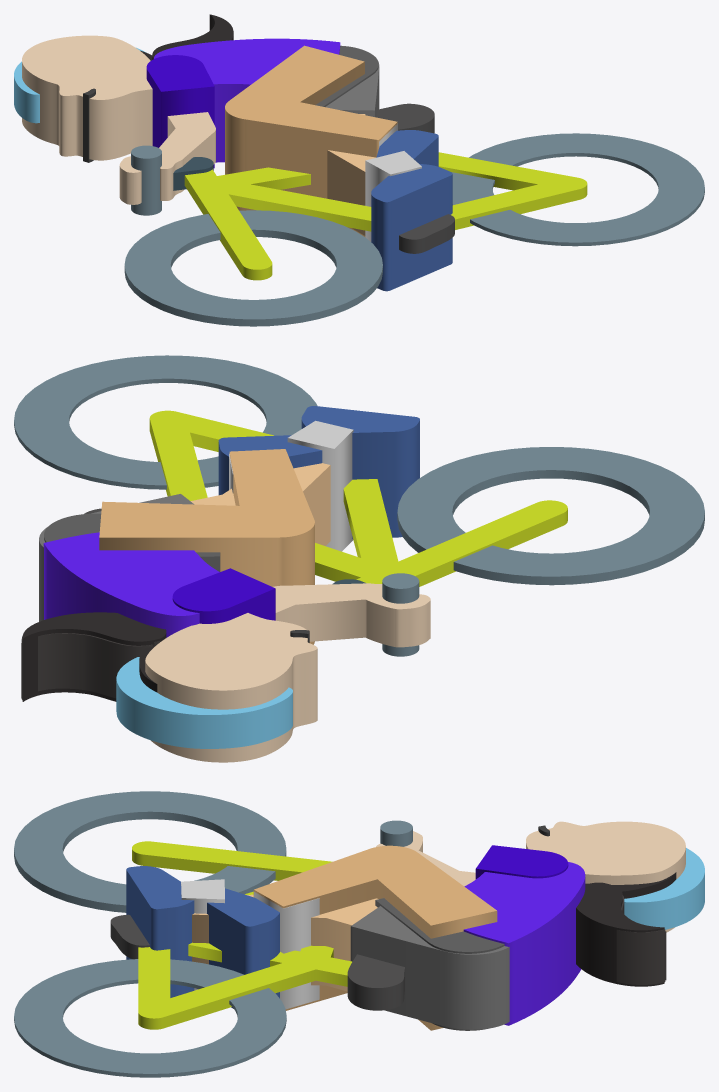
File: emoji_u1f6b4_1f3fb_200d_2640.glb
3 renders of one model, top to bottom at view 1: azimuth 30°, elevation 25°; view 2: azimuth 150°, elevation 25°; view 3: azimuth 270°, elevation 25°, orthographic. The views are drawn at different scales.
Visible parts, largest first — view 1: emoji_u1f6b4_1f3fb_200d_2640; view 2: emoji_u1f6b4_1f3fb_200d_2640; view 3: emoji_u1f6b4_1f3fb_200d_2640.
Boxes of the visible parts, x1=… form: emoji_u1f6b4_1f3fb_200d_2640: x1=14, y1=14, x2=704, y2=326; emoji_u1f6b4_1f3fb_200d_2640: x1=14, y1=355, x2=704, y2=762; emoji_u1f6b4_1f3fb_200d_2640: x1=14, y1=791, x2=704, y2=1077.
Size of the model in its own units: 0.0321 by 0.0056 by 0.0334.
